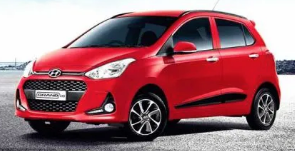car: (13, 9, 283, 142)
